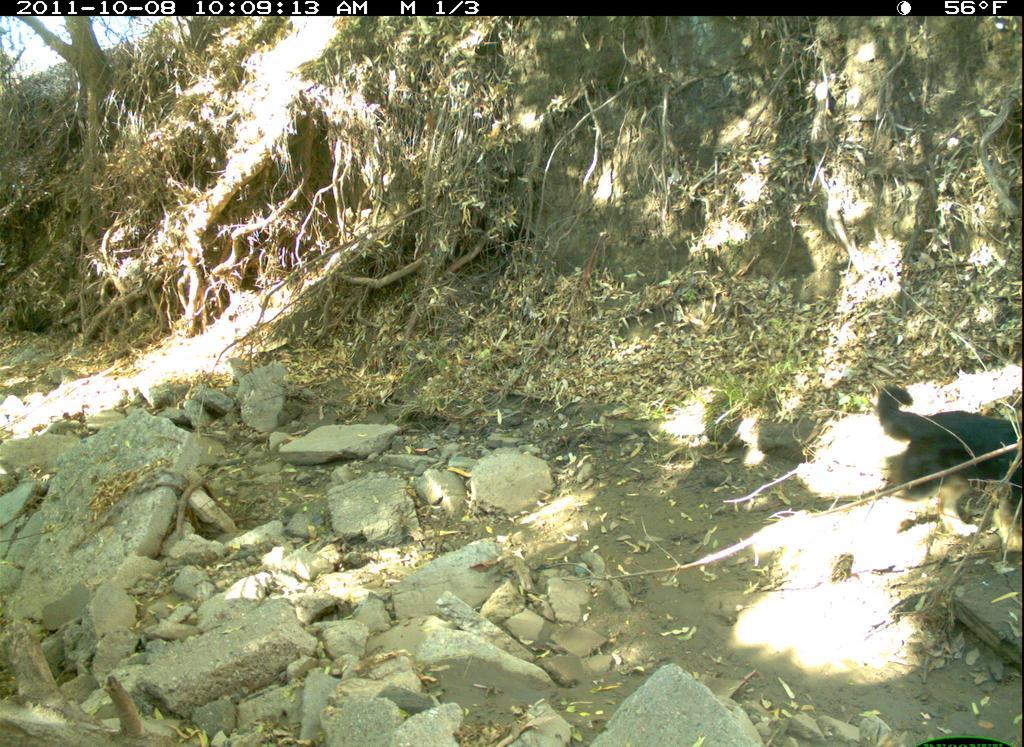dog: (872, 379, 1023, 509)
